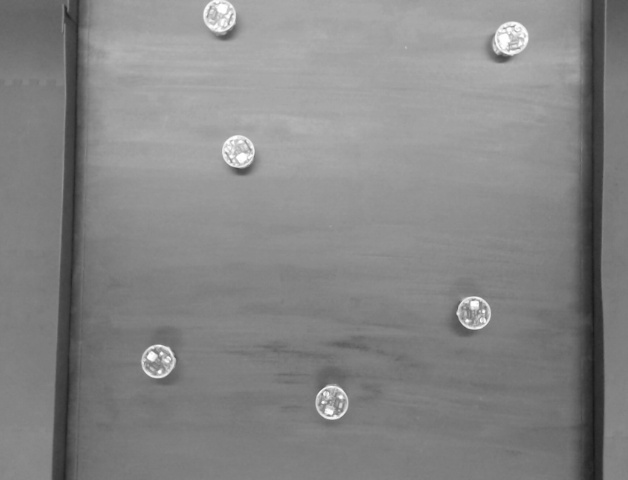epuck_2: (482, 13, 534, 62), (135, 340, 182, 384), (307, 381, 355, 424), (454, 293, 500, 335), (200, 1, 242, 45), (218, 132, 259, 173)
